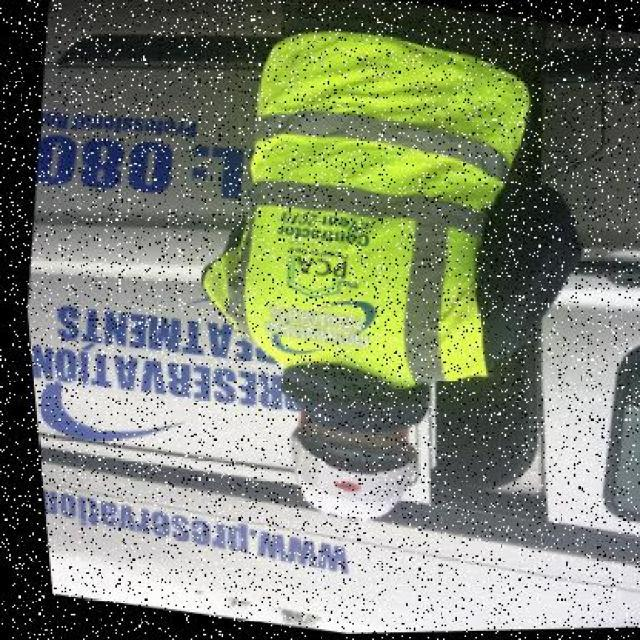helmet: (229, 409, 439, 539)
vest: (162, 0, 564, 406)
